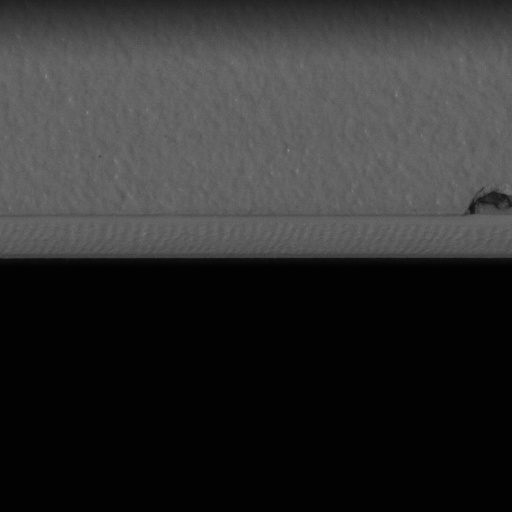bengque: (459, 191, 511, 219)
